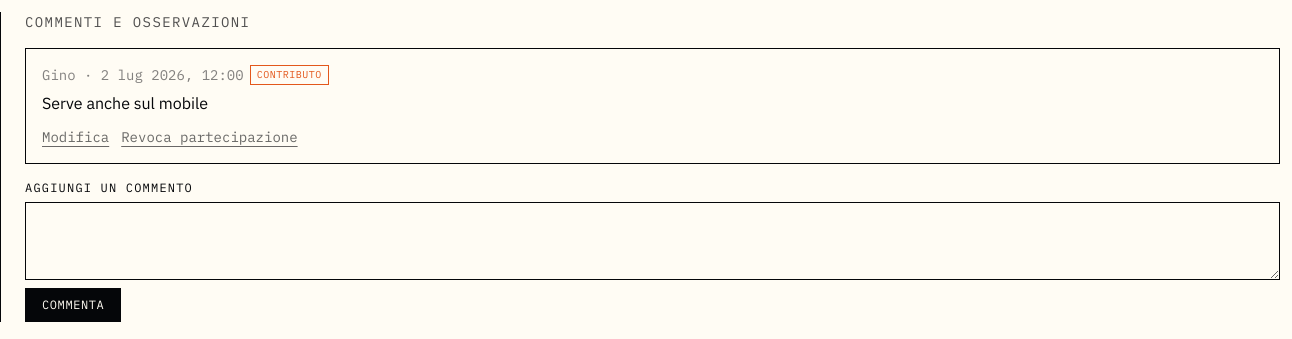
Scenario: CommentsSidebar › an accepted contribution can be revoked but not deleted, and shows the action error
Check: the text "contributo" is shown, box 250,65 -> 329,85
Step 1. Click the button "Revoca partecipazione" → point(209, 137), box 121,127 -> 298,147
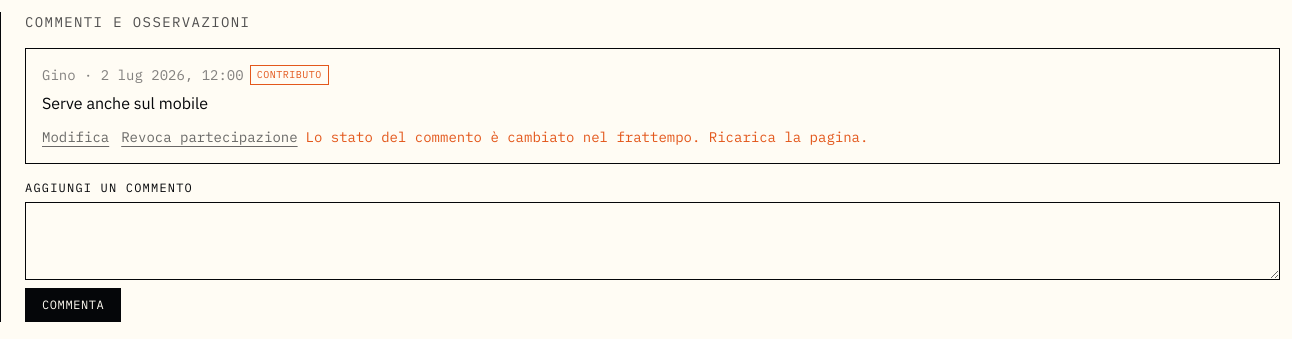
Check: the message shows "Ricarica la pagina", box 306,128 -> 868,146
